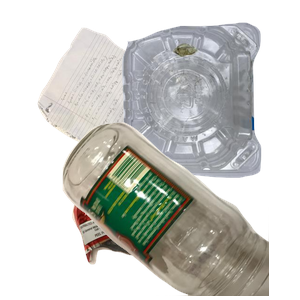glass: (60, 120, 300, 300)
paper: (35, 25, 232, 204)
plastic: (119, 20, 300, 190)
trash: (70, 162, 257, 300)
